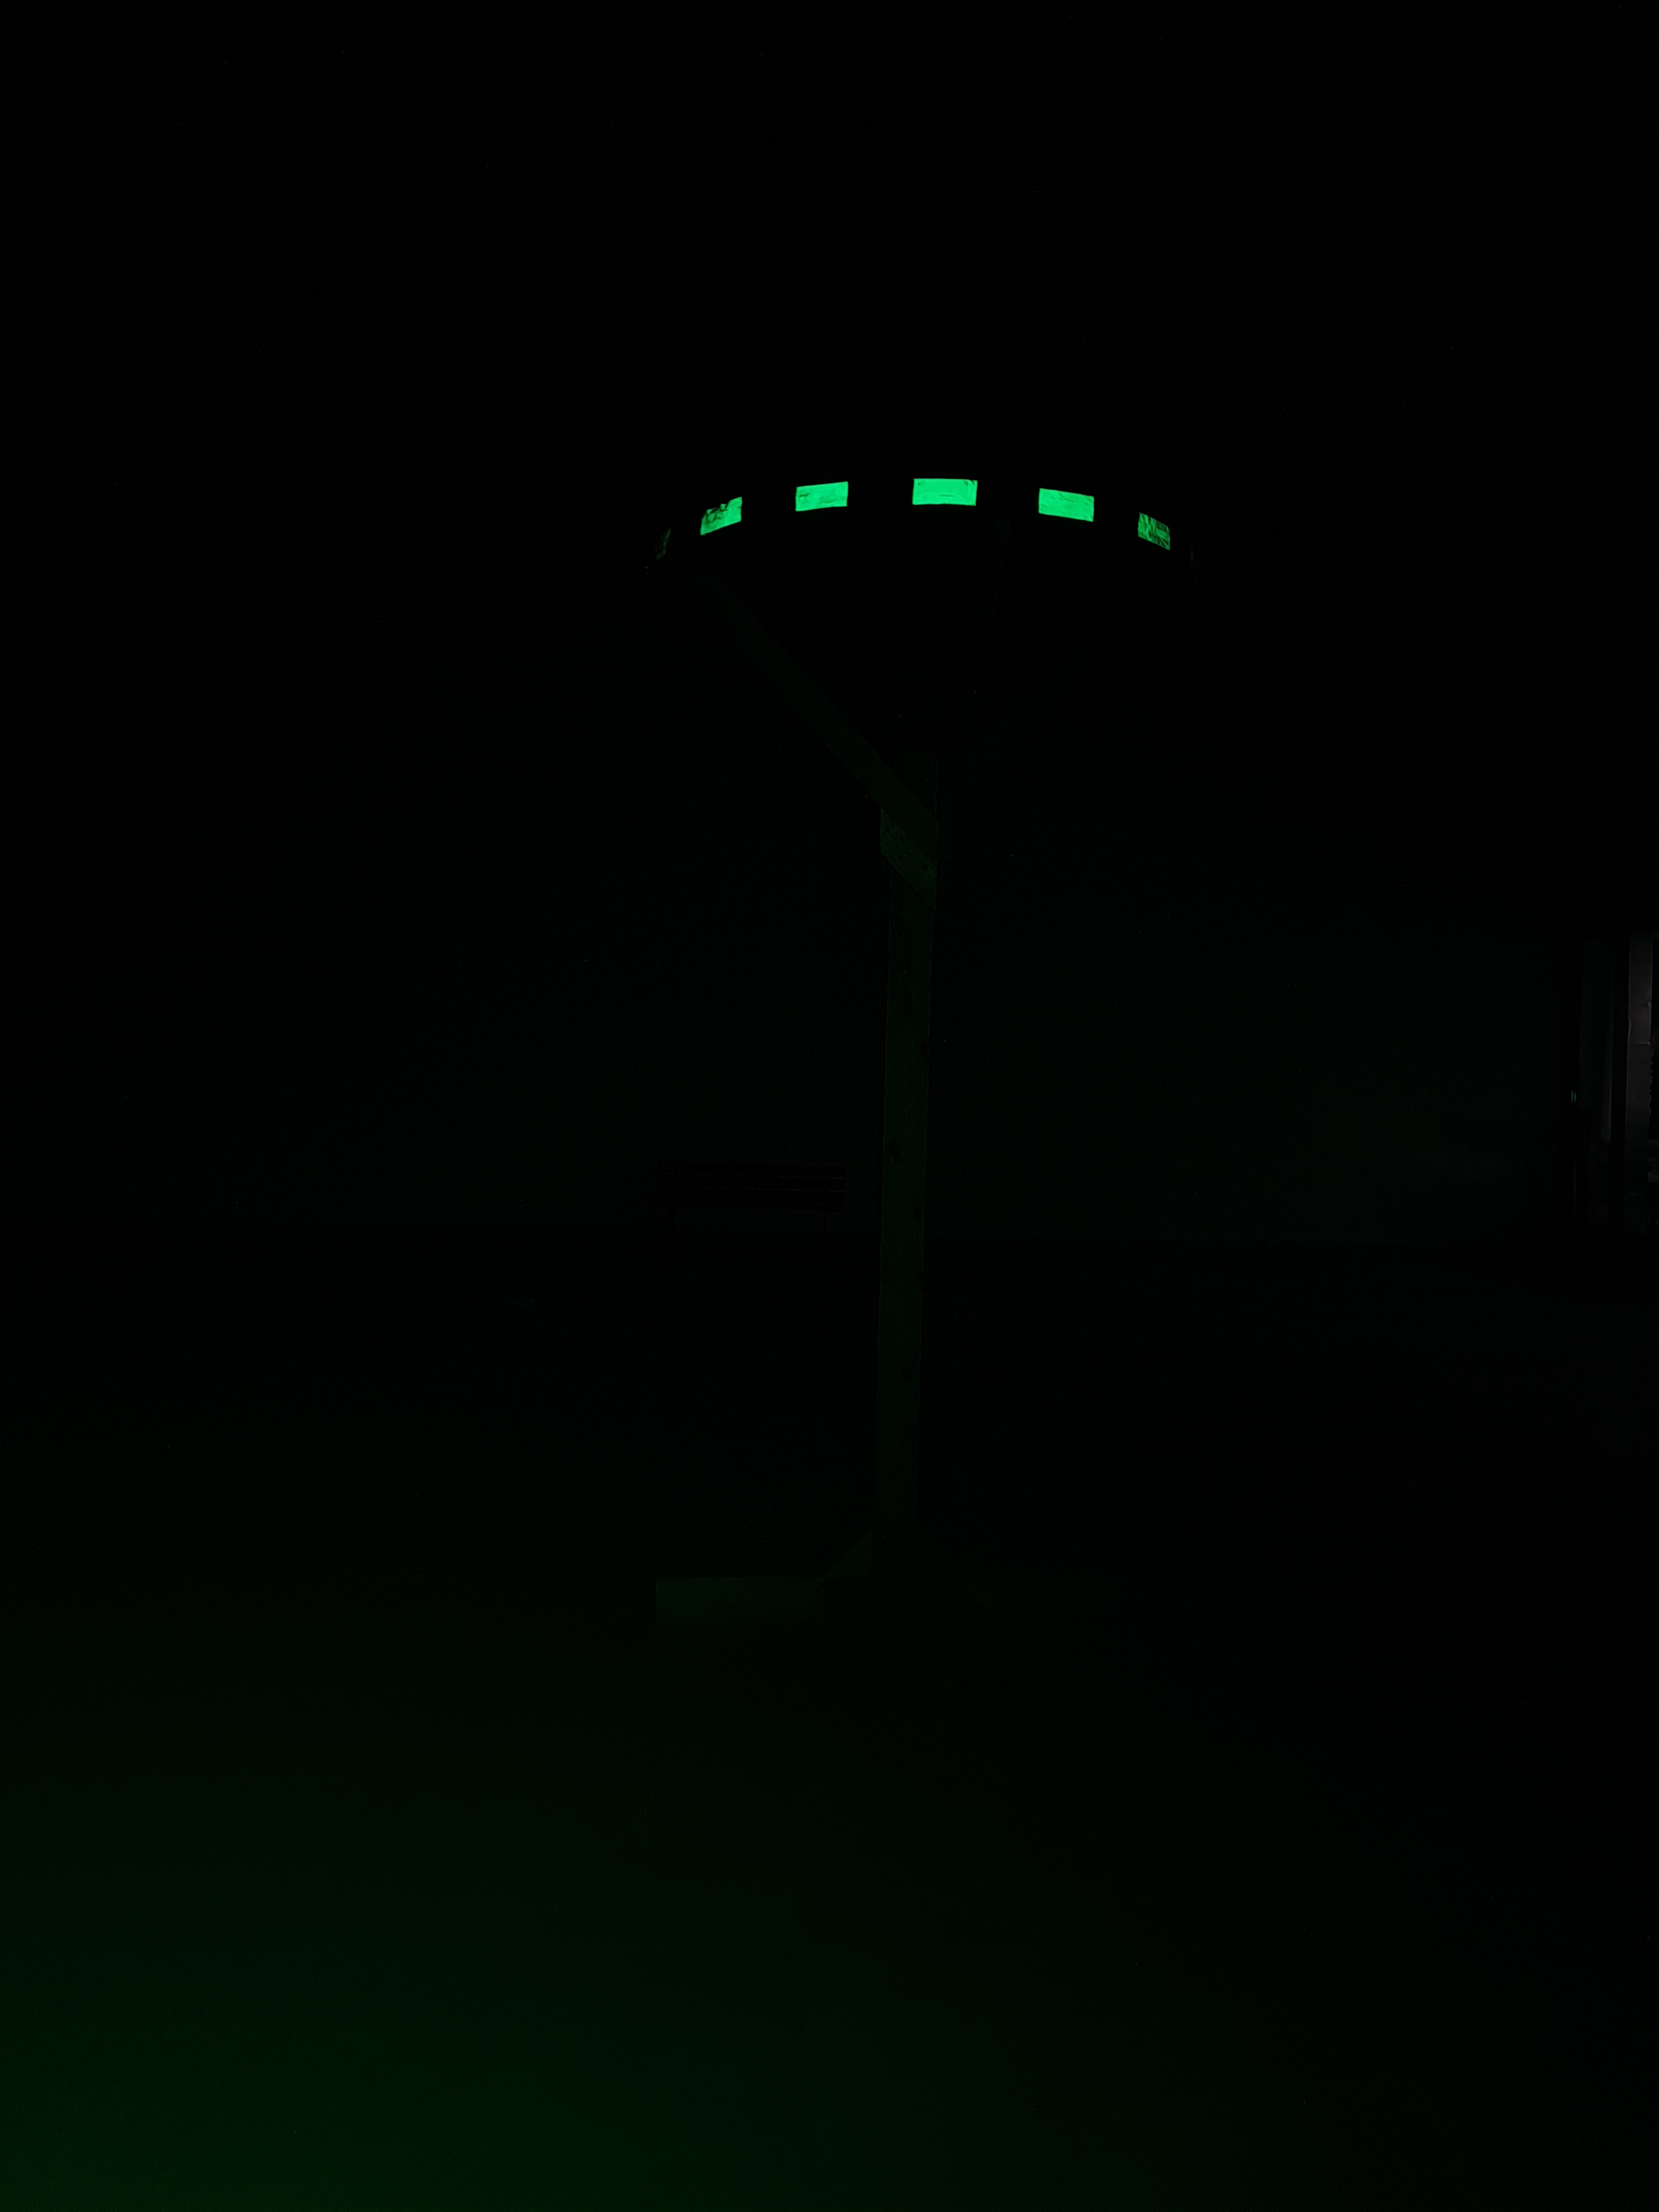hoop: (697, 475, 1175, 552)
